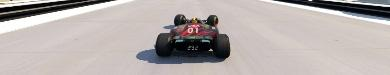Car: (154, 13, 230, 57)
obstacles-Borders: (0, 0, 118, 22)
